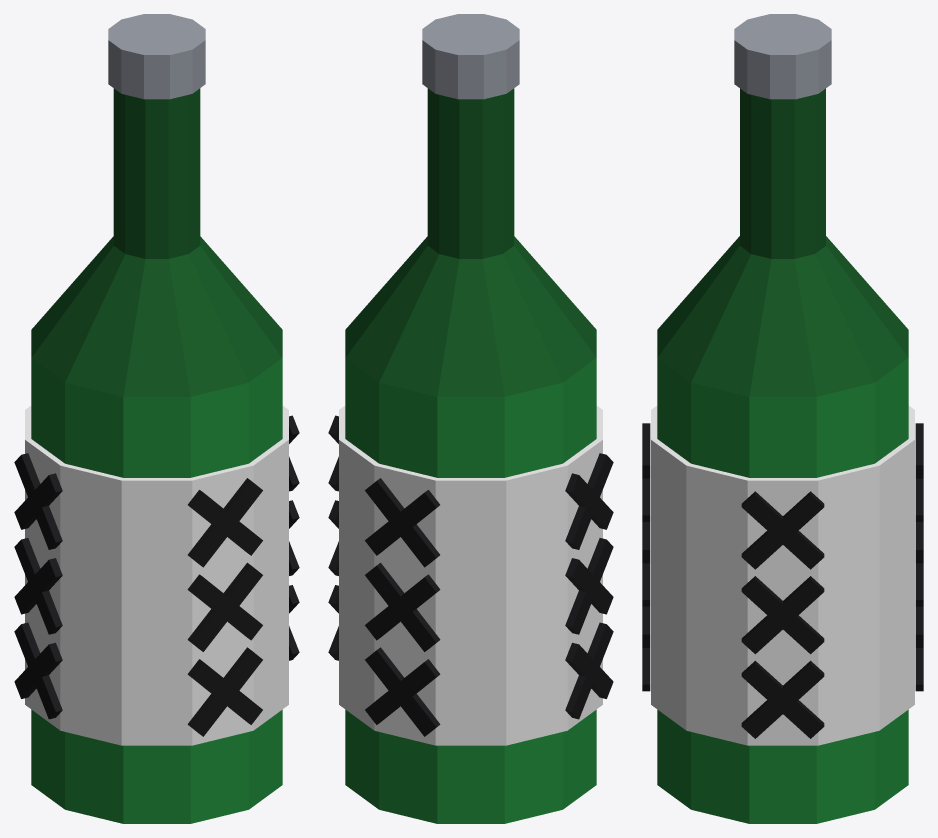
File: botella_nitro.obj
3 views of the same model, side by side, from view 1: azimuth 30°, elevation 25°; view 2: azimuth 150°, elevation 25°; view 3: azimuth 270°, elevation 25° (orthographic).
Parts seen in each view (by area): view 1: botella_nitro; view 2: botella_nitro; view 3: botella_nitro.
Boxes of the visible parts, x1,y1,x2,y2 form: botella_nitro: (14,14,299,823); botella_nitro: (328,14,613,823); botella_nitro: (642,14,923,823).
Bounding box in the file's own units: 0.3466 × 1 × 0.3466.
